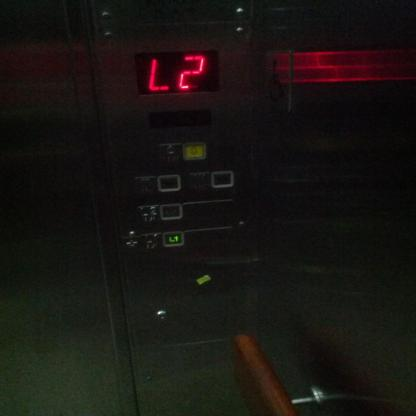L1: (140, 233, 162, 251), (162, 230, 184, 247)
L2: (136, 204, 160, 223)
alarm: (158, 143, 182, 163), (182, 143, 206, 159)
blur: (210, 170, 234, 188), (157, 174, 181, 192), (160, 202, 182, 221)
close: (186, 172, 212, 192)
led: (129, 48, 219, 94)
open: (131, 176, 159, 194)
s: (121, 234, 139, 253)
